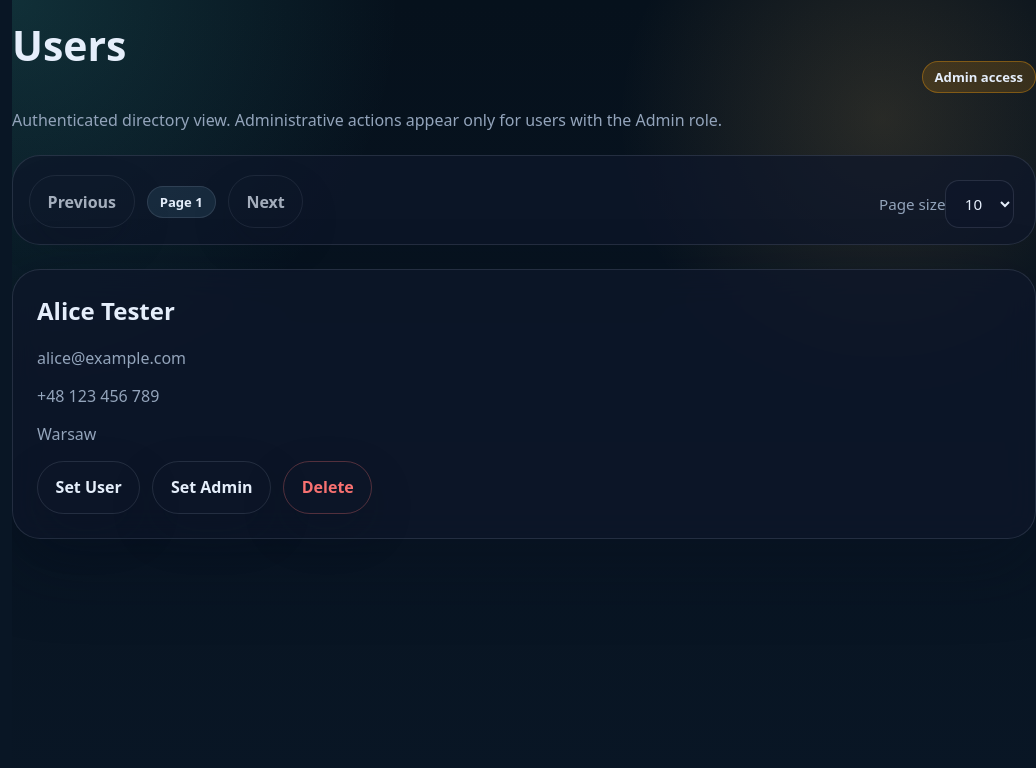
Scenario: UserList page › allows admins to request role changes
Expected: the heading "Alice Tester" is shown, [37,294,175,327]
Click the button "Set Admin".
click(212, 487)  # box [152,461,271,514]
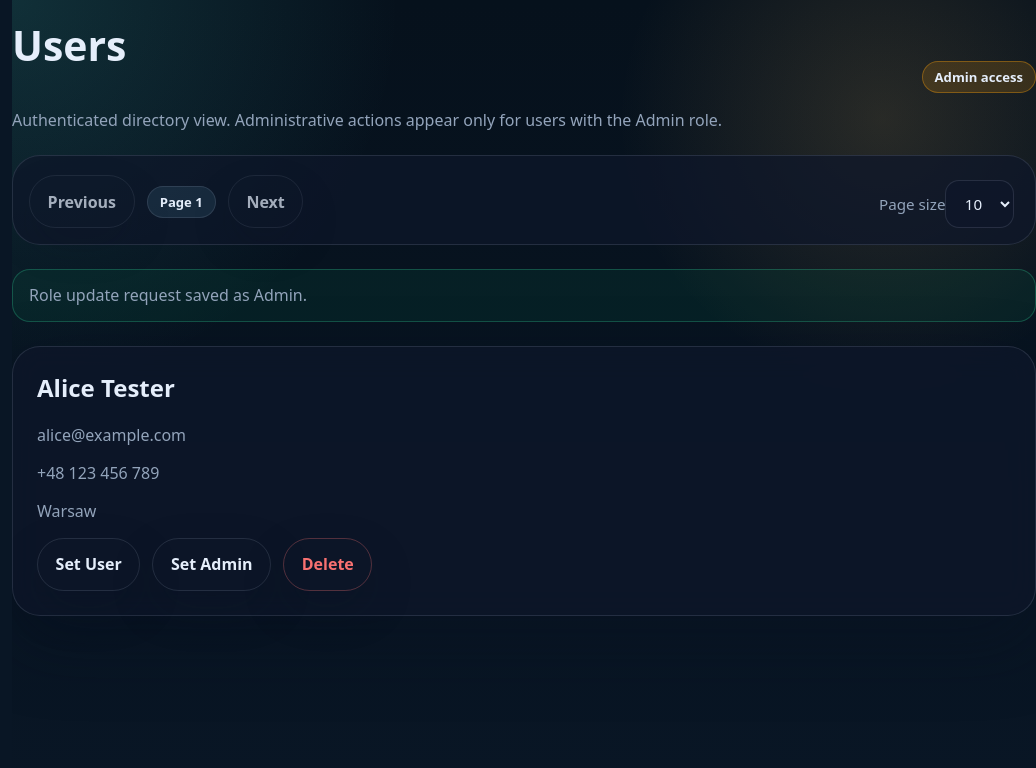
Now the text "Role update request saved as Admin." is shown, box [12,269,1035,322]
